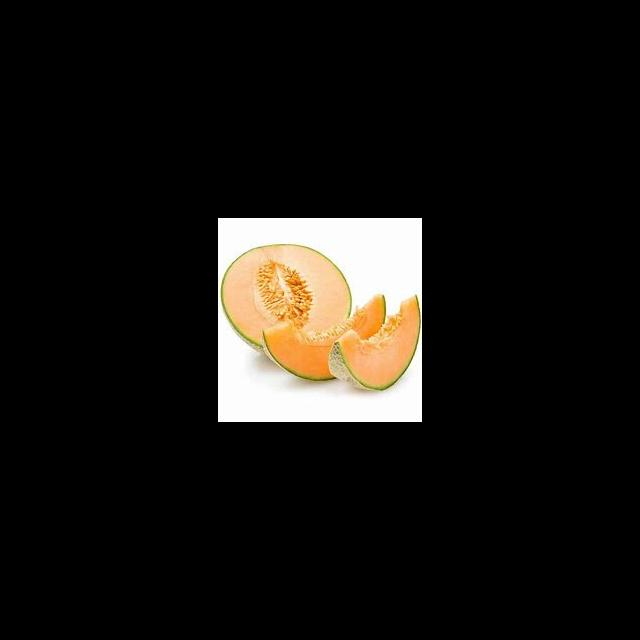Hami Melon: (224, 244, 351, 347), (260, 294, 383, 378), (332, 296, 422, 391)
